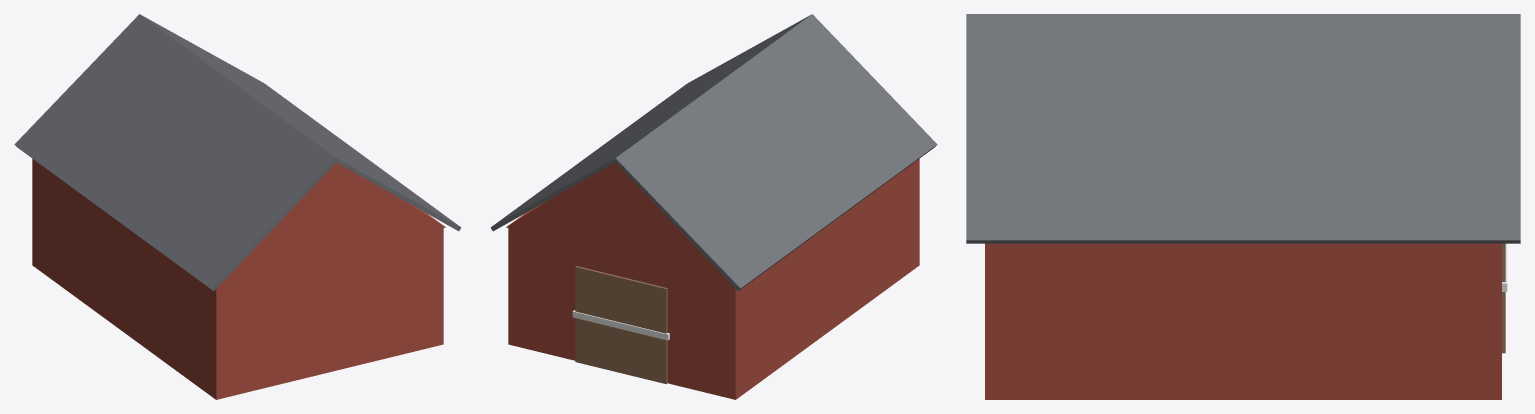
Rendered from barn.glb.
3 views of the same model, side by side, from view 1: azimuth 30°, elevation 25°; view 2: azimuth 150°, elevation 25°; view 3: azimuth 270°, elevation 25° (orthographic). The views are drawn at different scales.
Parts seen in each view (by area): view 1: BarnRoof, BarnWalls, BarnGable; view 2: BarnRoof, BarnWalls, BarnGable, BarnDoor, BarnDoorX1; view 3: BarnRoof, BarnWalls.
Boxes of the visible parts, <box> form: BarnRoof: <box>14,14,461,290</box>; BarnWalls: <box>32,159,443,399</box>; BarnGable: <box>223,162,445,281</box>; BarnRoof: <box>490,14,937,290</box>; BarnWalls: <box>508,159,919,399</box>; BarnGable: <box>506,162,728,281</box>; BarnDoor: <box>575,266,667,383</box>; BarnDoorX1: <box>572,310,669,340</box>; BarnRoof: <box>966,14,1520,243</box>; BarnWalls: <box>985,243,1501,399</box>.
Bounding box in the file's own units: 11 × 9.2 × 15.
